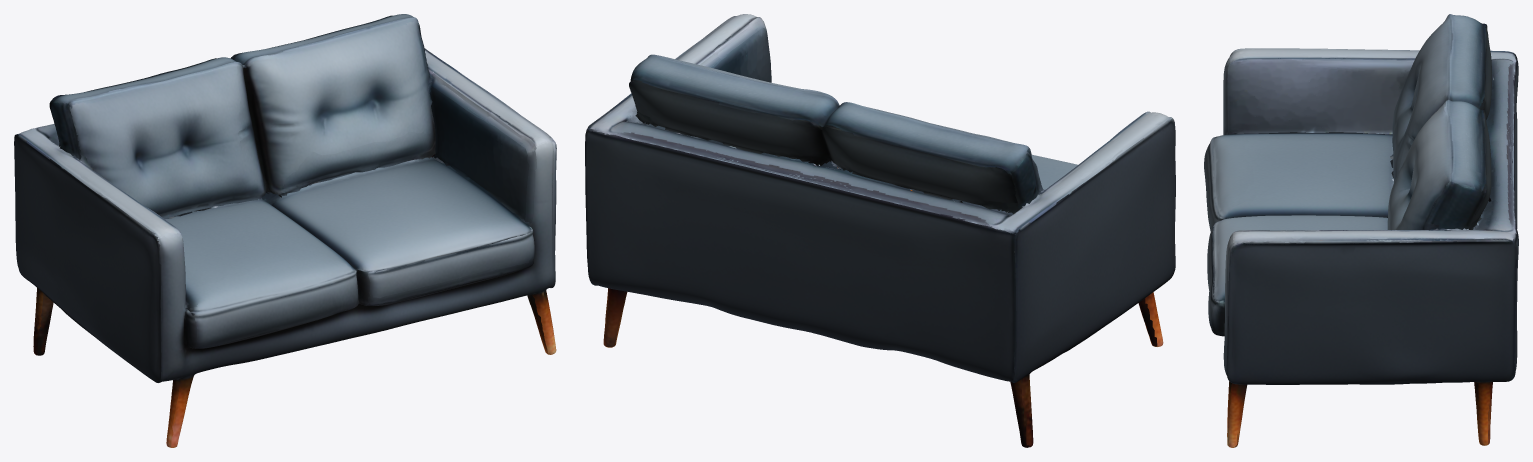
Rendered from sofa.glb.
3 renders of one model, left to right at view 1: azimuth 30°, elevation 25°; view 2: azimuth 150°, elevation 25°; view 3: azimuth 270°, elevation 25°, orthographic. The views are drawn at different scales.
Parts seen in each view (by area): view 1: tmpwpx9iptb.ply; view 2: tmpwpx9iptb.ply; view 3: tmpwpx9iptb.ply.
Part boxes in pixels (x1,y1,x2,y2): tmpwpx9iptb.ply: (14, 14, 556, 447); tmpwpx9iptb.ply: (585, 14, 1175, 447); tmpwpx9iptb.ply: (1204, 14, 1518, 447).
Bounding box in the file's own units: 1.99 × 1.23 × 1.36.
1 material, 1 textured.
